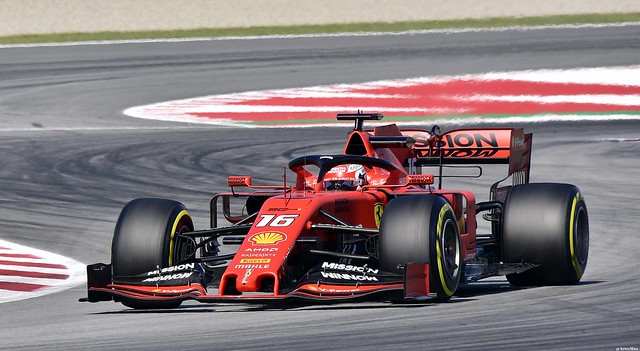F1 Car: (77, 108, 595, 308)
